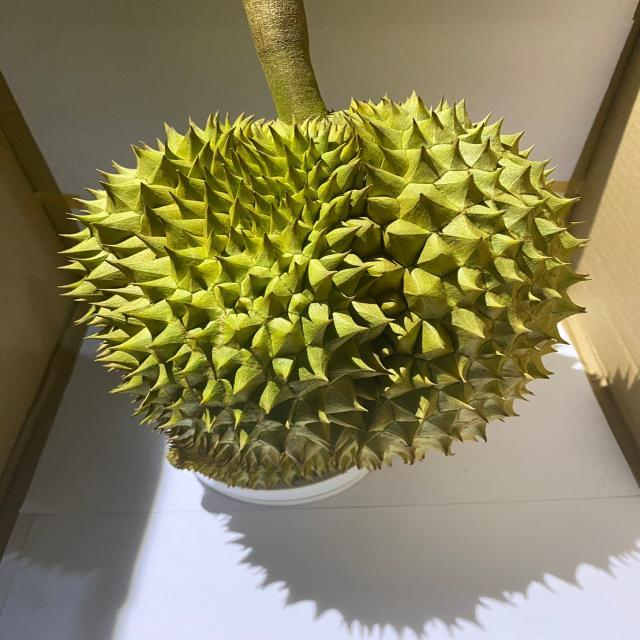immature: (55, 94, 591, 491)
